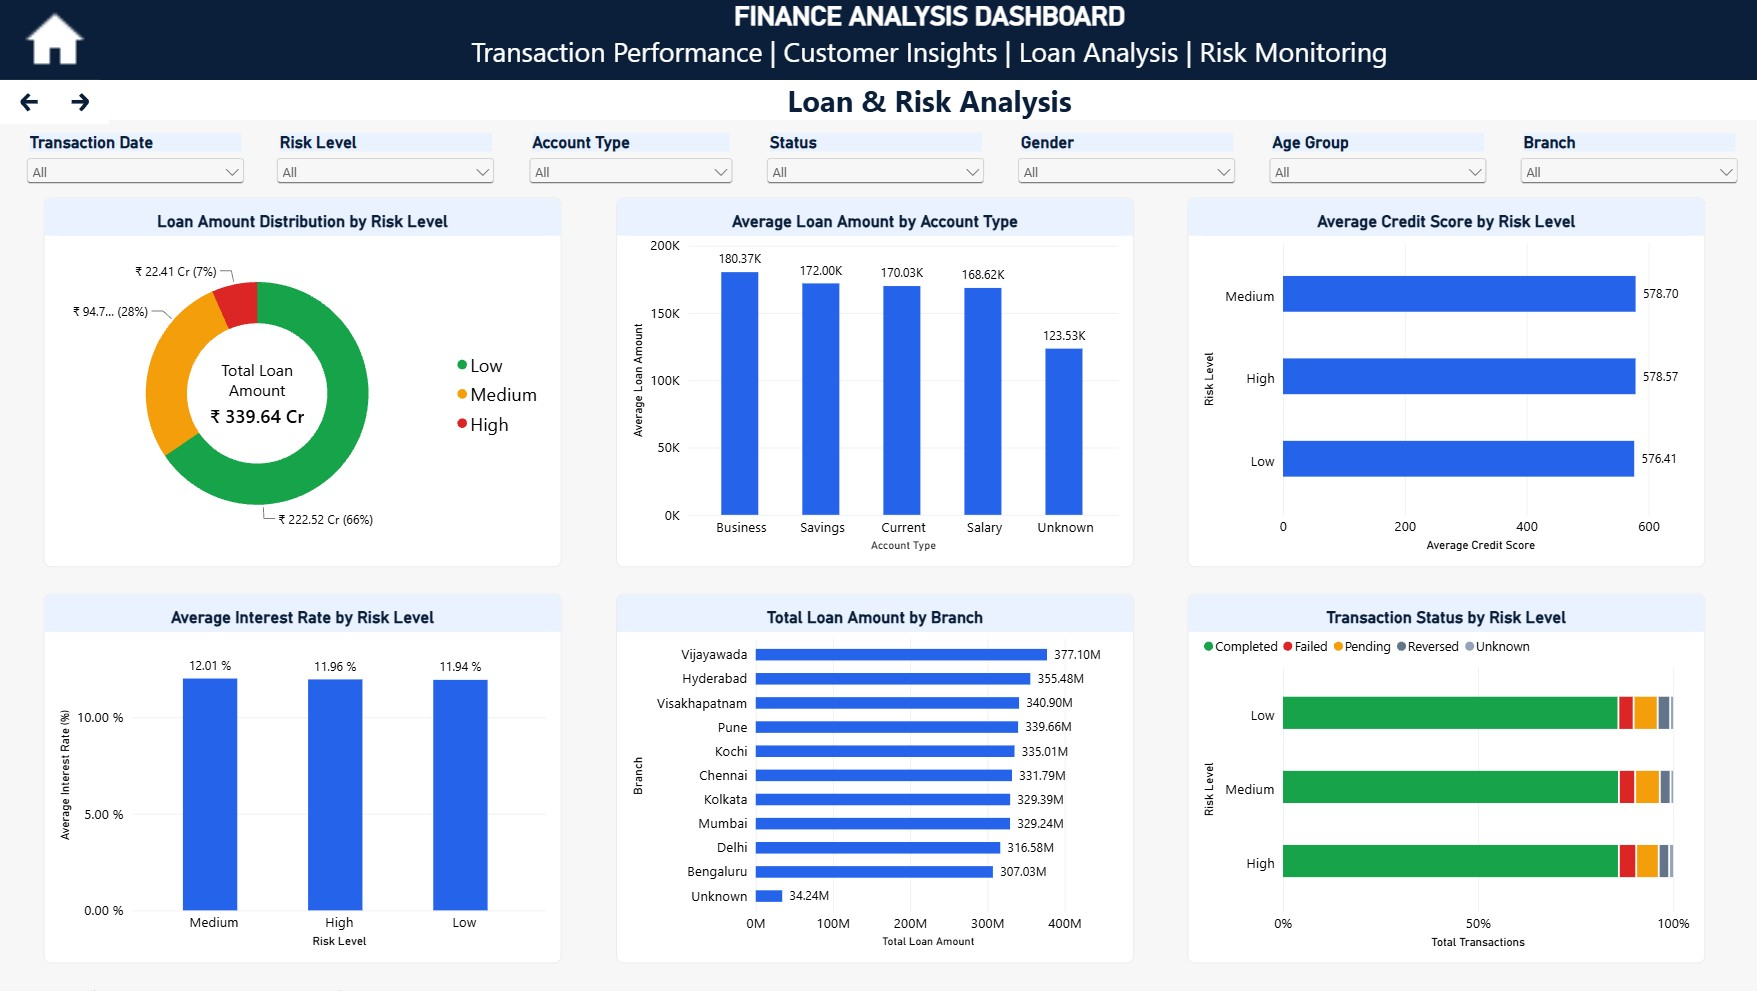

The dashboard page shown, as its layout file describes it:
{"tool":"powerbi","page":{"name":"Loan & Risk Analysis","canvas":[1920,1080],"ordinal":3},"visuals":[{"type":"shape","title":"FINANCE ANALYSIS DASHBOARD","box":[108.9,0,1810,87.8],"z":0},{"type":"shape","box":[108.9,87.8,1810,43.3],"z":1000},{"type":"slicer","fields":{"Values":["Finance.Transaction_Date"]},"box":[24,144,246.4,70.4],"z":2000},{"type":"slicer","fields":{"Values":["Finance.Risk_Level"]},"box":[297.9,144,246.9,72],"z":3000},{"type":"slicer","fields":{"Values":["Finance.Account_Type"]},"box":[572.3,144,231.5,72],"z":4000},{"type":"slicer","fields":{"Values":["Finance.Status"]},"box":[831.3,144,246.9,72],"z":5000},{"type":"slicer","fields":{"Values":["Finance.Gender"]},"box":[1105.7,144,246.9,69.5],"z":6000},{"type":"slicer","fields":{"Values":["Finance.Age_Group"]},"box":[1380.1,144,246.9,69.5],"z":7000},{"type":"slicer","fields":{"Values":["Finance.Branch"]},"box":[1654.6,144,246.9,72],"z":8000},{"type":"donutChart","title":"Loan Amount Distribution by Risk Level","fields":{"Category":["Finance.Risk_Level"],"Y":["Finance.Total Loan Amount Cr"]},"box":[48,216,565,403],"z":9000},{"type":"clusteredColumnChart","title":"Average Loan Amount by Account Type","fields":{"Category":["Finance.Account_Type"],"Y":["Finance.Average Loan Amount"]},"box":[672,216,565,403],"z":10000},{"type":"clusteredColumnChart","title":"Average Interest Rate by Risk Level","fields":{"Category":["Finance.Risk_Level"],"Y":["Finance.Average Interest Rate"]},"box":[48,648,565,403],"z":11000},{"type":"clusteredBarChart","fields":{"Category":["Finance.Risk_Level"],"Y":["Finance.Average Credit Score"]},"box":[1296,216,565,403],"z":12000},{"type":"clusteredBarChart","fields":{"Category":["Finance.Branch"],"Y":["Finance.Total Loan Amount"]},"box":[672,648.2,565,403],"z":13000},{"type":"hundredPercentStackedBarChart","title":"Transaction Status by Risk Level","fields":{"Category":["Finance.Risk_Level"],"Series":["Finance.Status"],"Y":["Finance.Total Transactions"]},"box":[1296,648,565,403],"z":14000},{"type":"actionButton","box":[0,87.8,64,48],"z":15000},{"type":"actionButton","box":[54.4,87.8,64,48],"z":16000},{"type":"image","box":[0,0,120,87],"z":17000}]}

Visuals, with their boxes in screenshot pixels (x1, y1, x2, y2), scaled from the page's 1920x1080 canvas onto the 1757x991 screenshot:
"FINANCE ANALYSIS DASHBOARD" shape: pyautogui.locateOnScreen(100, 0, 1756, 81)
shape: pyautogui.locateOnScreen(100, 81, 1756, 120)
slicer - Finance.Transaction_Date: pyautogui.locateOnScreen(22, 132, 247, 197)
slicer - Finance.Risk_Level: pyautogui.locateOnScreen(273, 132, 499, 198)
slicer - Finance.Account_Type: pyautogui.locateOnScreen(524, 132, 736, 198)
slicer - Finance.Status: pyautogui.locateOnScreen(761, 132, 987, 198)
slicer - Finance.Gender: pyautogui.locateOnScreen(1012, 132, 1238, 196)
slicer - Finance.Age_Group: pyautogui.locateOnScreen(1263, 132, 1489, 196)
slicer - Finance.Branch: pyautogui.locateOnScreen(1514, 132, 1740, 198)
"Loan Amount Distribution by Risk Level" donutChart: pyautogui.locateOnScreen(44, 198, 561, 568)
"Average Loan Amount by Account Type" clusteredColumnChart: pyautogui.locateOnScreen(615, 198, 1132, 568)
"Average Interest Rate by Risk Level" clusteredColumnChart: pyautogui.locateOnScreen(44, 595, 561, 964)
clusteredBarChart - Finance.Risk_Level x Finance.Average Credit Score: pyautogui.locateOnScreen(1186, 198, 1703, 568)
clusteredBarChart - Finance.Branch x Finance.Total Loan Amount: pyautogui.locateOnScreen(615, 595, 1132, 965)
"Transaction Status by Risk Level" hundredPercentStackedBarChart: pyautogui.locateOnScreen(1186, 595, 1703, 964)
actionButton: pyautogui.locateOnScreen(0, 81, 59, 125)
actionButton: pyautogui.locateOnScreen(50, 81, 108, 125)
image: pyautogui.locateOnScreen(0, 0, 110, 80)
